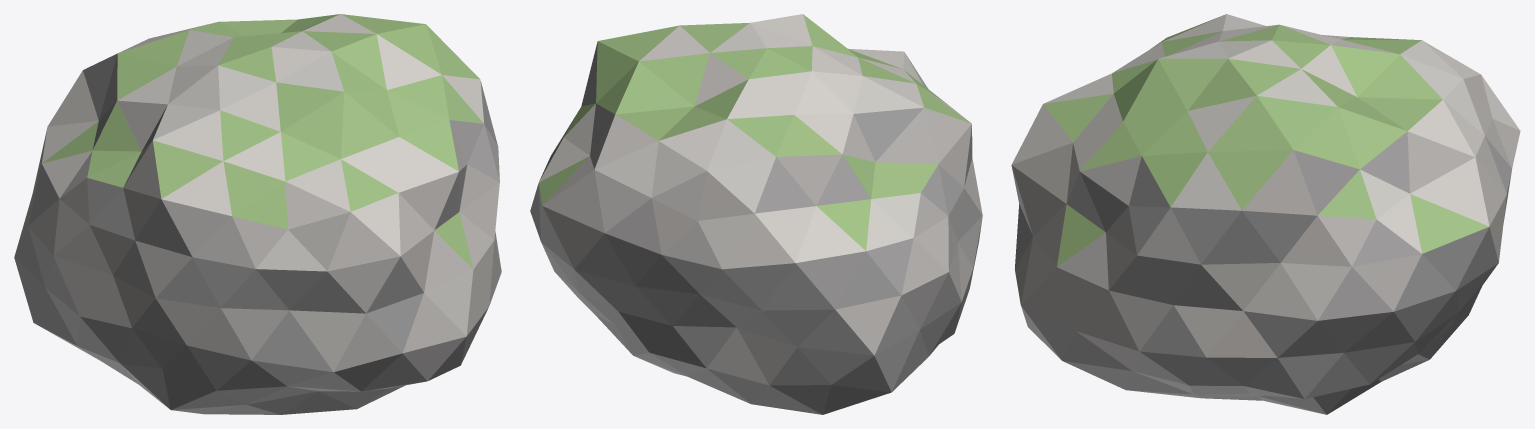
Rendered from Boulder.glb.
The picture shows the model from 3 angles, left to right: view 1: azimuth 30°, elevation 25°; view 2: azimuth 150°, elevation 25°; view 3: azimuth 270°, elevation 25°; orthographic projection. The views are drawn at different scales.
Parts seen in each view (by area): view 1: Boulder_Rock; view 2: Boulder_Rock; view 3: Boulder_Rock.
Boxes of the visible parts, x1,y1,x2,y2 form: Boulder_Rock: (14,14,501,414); Boulder_Rock: (530,14,982,414); Boulder_Rock: (1011,14,1520,414).
Bounding box in the file's own units: 3.22 × 2.43 × 3.36.
